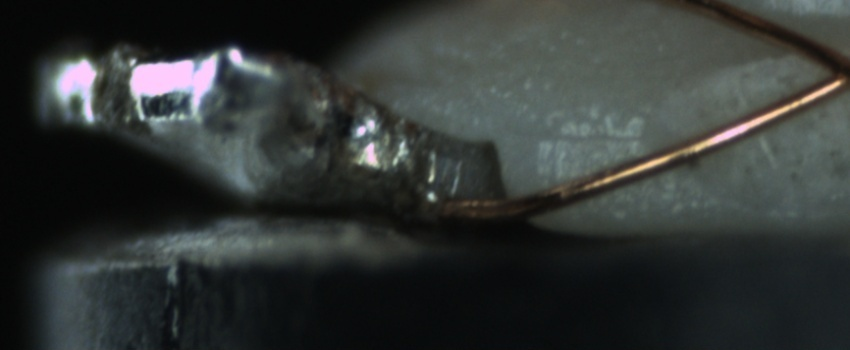CL: (798, 35, 850, 106)
DL: (551, 109, 642, 163)
